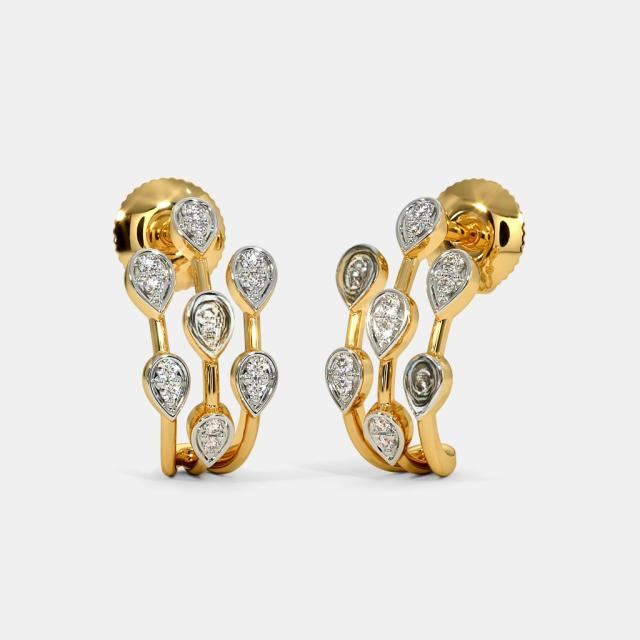missing gem: (192, 295, 232, 358), (339, 246, 378, 306), (408, 357, 440, 418)
